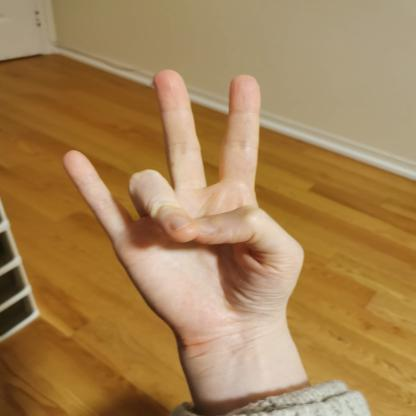seven: (56, 64, 317, 342)
